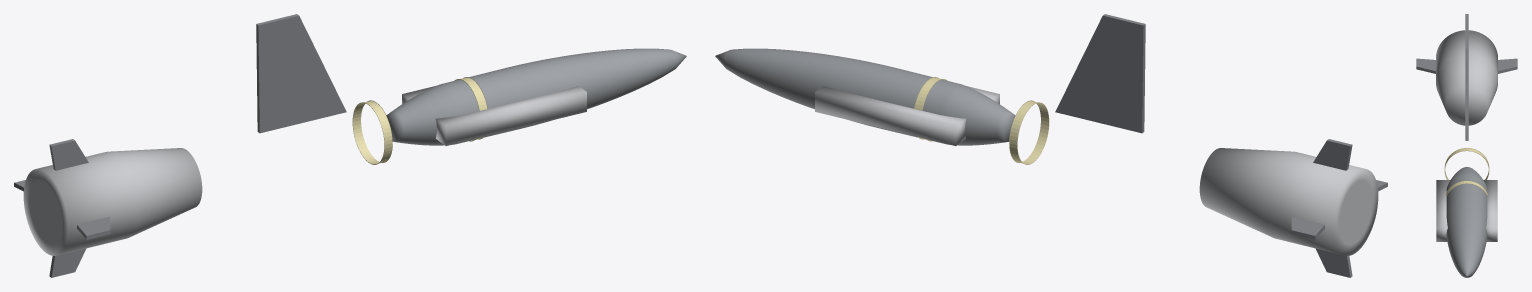
File: RU_ASM_P6_LOD0.fbx
3 views of the same model, side by side, from view 1: azimuth 30°, elevation 25°; view 2: azimuth 150°, elevation 25°; view 3: azimuth 270°, elevation 25° (orthographic). The views are drawn at different scales.
Parts seen in each view (by area): view 1: WPN_RU_ASM_P6_LOD0_Tail, WPN_RU_ASM_P6_LOD0_Body, WPN_RU_ASM_P6_LOD0_Wings, WPN_RU_ASM_P6_LOD0_Detail, WPN_RU_ASM_P6_LOD0_Fins, WPN_RU_ASM_P6_LOD0_Marking; view 2: WPN_RU_ASM_P6_LOD0_Tail, WPN_RU_ASM_P6_LOD0_Body, WPN_RU_ASM_P6_LOD0_Wings, WPN_RU_ASM_P6_LOD0_Detail, WPN_RU_ASM_P6_LOD0_Fins, WPN_RU_ASM_P6_LOD0_Marking; view 3: WPN_RU_ASM_P6_LOD0_Tail, WPN_RU_ASM_P6_LOD0_Body, WPN_RU_ASM_P6_LOD0_Detail, WPN_RU_ASM_P6_LOD0_Fins, WPN_RU_ASM_P6_LOD0_Wings, WPN_RU_ASM_P6_LOD0_Marking.
Part boxes in pixels (<box>): WPN_RU_ASM_P6_LOD0_Tail: <box>23,148,202,255</box>; WPN_RU_ASM_P6_LOD0_Body: <box>386,48,686,145</box>; WPN_RU_ASM_P6_LOD0_Wings: <box>256,14,346,133</box>; WPN_RU_ASM_P6_LOD0_Detail: <box>402,86,586,145</box>; WPN_RU_ASM_P6_LOD0_Fins: <box>14,139,110,277</box>; WPN_RU_ASM_P6_LOD0_Marking: <box>352,77,487,164</box>; WPN_RU_ASM_P6_LOD0_Tail: <box>1199,148,1378,255</box>; WPN_RU_ASM_P6_LOD0_Body: <box>715,48,1015,145</box>; WPN_RU_ASM_P6_LOD0_Wings: <box>1055,14,1145,133</box>; WPN_RU_ASM_P6_LOD0_Detail: <box>815,86,999,145</box>; WPN_RU_ASM_P6_LOD0_Fins: <box>1291,139,1387,277</box>; WPN_RU_ASM_P6_LOD0_Marking: <box>914,77,1049,164</box>; WPN_RU_ASM_P6_LOD0_Tail: <box>1436,30,1497,125</box>; WPN_RU_ASM_P6_LOD0_Body: <box>1446,167,1487,277</box>; WPN_RU_ASM_P6_LOD0_Detail: <box>1436,180,1497,241</box>; WPN_RU_ASM_P6_LOD0_Fins: <box>1416,14,1517,73</box>; WPN_RU_ASM_P6_LOD0_Wings: <box>1465,35,1468,140</box>; WPN_RU_ASM_P6_LOD0_Marking: <box>1444,148,1489,196</box>.
Size of the model in its own units: 10.6 by 2.08 by 3.19.
